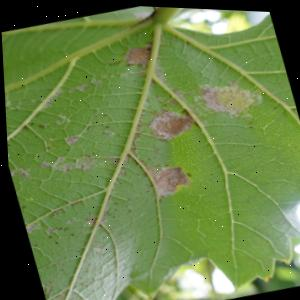Folha: (0, 0, 300, 300)
Fungo: (137, 66, 270, 145), (189, 68, 266, 125), (143, 100, 199, 142), (36, 145, 105, 179), (145, 157, 193, 198), (118, 40, 158, 68), (64, 71, 105, 94), (36, 86, 66, 108), (159, 84, 187, 107), (21, 218, 42, 233), (8, 165, 30, 179), (78, 214, 97, 227), (52, 111, 70, 124), (42, 223, 61, 234), (62, 132, 78, 144), (88, 243, 101, 253), (36, 159, 50, 168)
